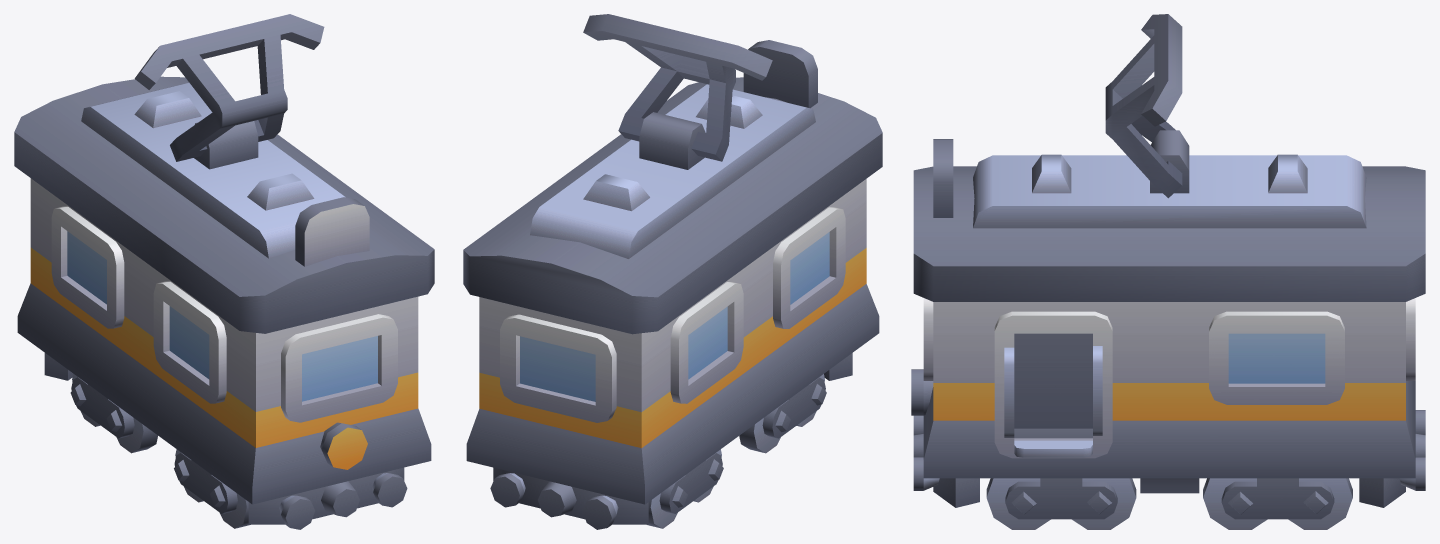
File: sparvagn.glb
3 views of the same model, side by side, from view 1: azimuth 30°, elevation 25°; view 2: azimuth 150°, elevation 25°; view 3: azimuth 270°, elevation 25° (orthographic). The views are drawn at different scales.
Visible parts, largest first — view 1: train-tram-classic, collector, wheels-back, wheels-front; view 2: train-tram-classic, collector, wheels-front, wheels-back; view 3: train-tram-classic, collector, wheels-front, wheels-back.
Boxes of the visible parts, x1,y1,x2,y2 form: train-tram-classic: (14,76,434,529); collector: (134,14,324,161); wheels-back: (70,374,157,453); wheels-front: (174,449,250,528); train-tram-classic: (463,40,882,529); collector: (583,14,772,161); wheels-front: (739,374,826,453); wheels-back: (647,449,723,528); train-tram-classic: (911,130,1425,507); collector: (1105,14,1182,198); wheels-front: (986,478,1136,529); wheels-back: (1203,478,1352,529).
Bounding box in the file's own units: 1.25 × 2.52 × 2.61.
1 material, 1 textured.
